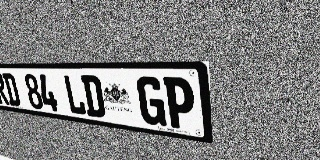4: (37, 74, 59, 112)
8: (23, 74, 44, 110)
D: (80, 75, 106, 118), (2, 73, 21, 107)
G: (136, 76, 167, 127)
L: (63, 75, 87, 116)
P: (163, 77, 196, 131)
R: (0, 73, 10, 105)
